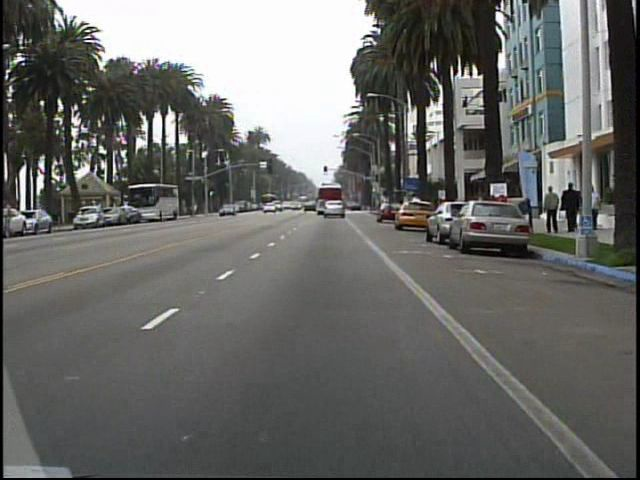person: (559, 180, 580, 233), (542, 183, 560, 236), (586, 181, 604, 231)
